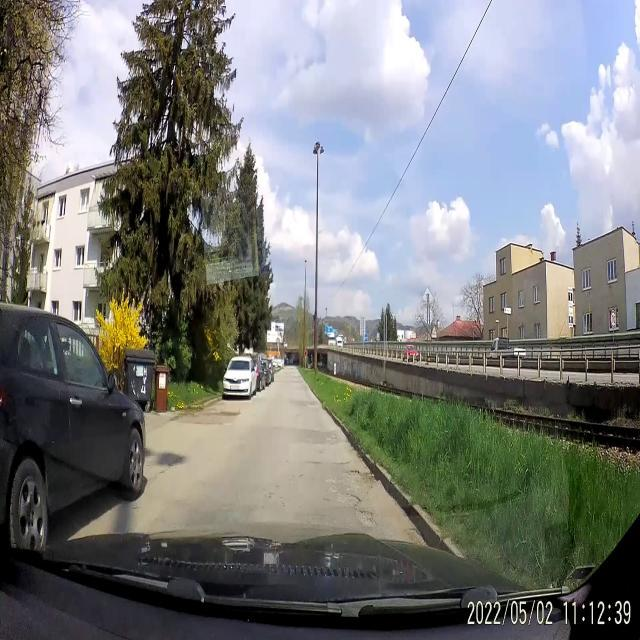Pothole: (338, 463, 374, 486), (354, 502, 378, 532), (334, 482, 360, 508)
